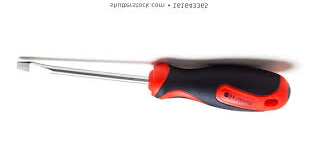Screwdriver: (12, 49, 298, 119)
